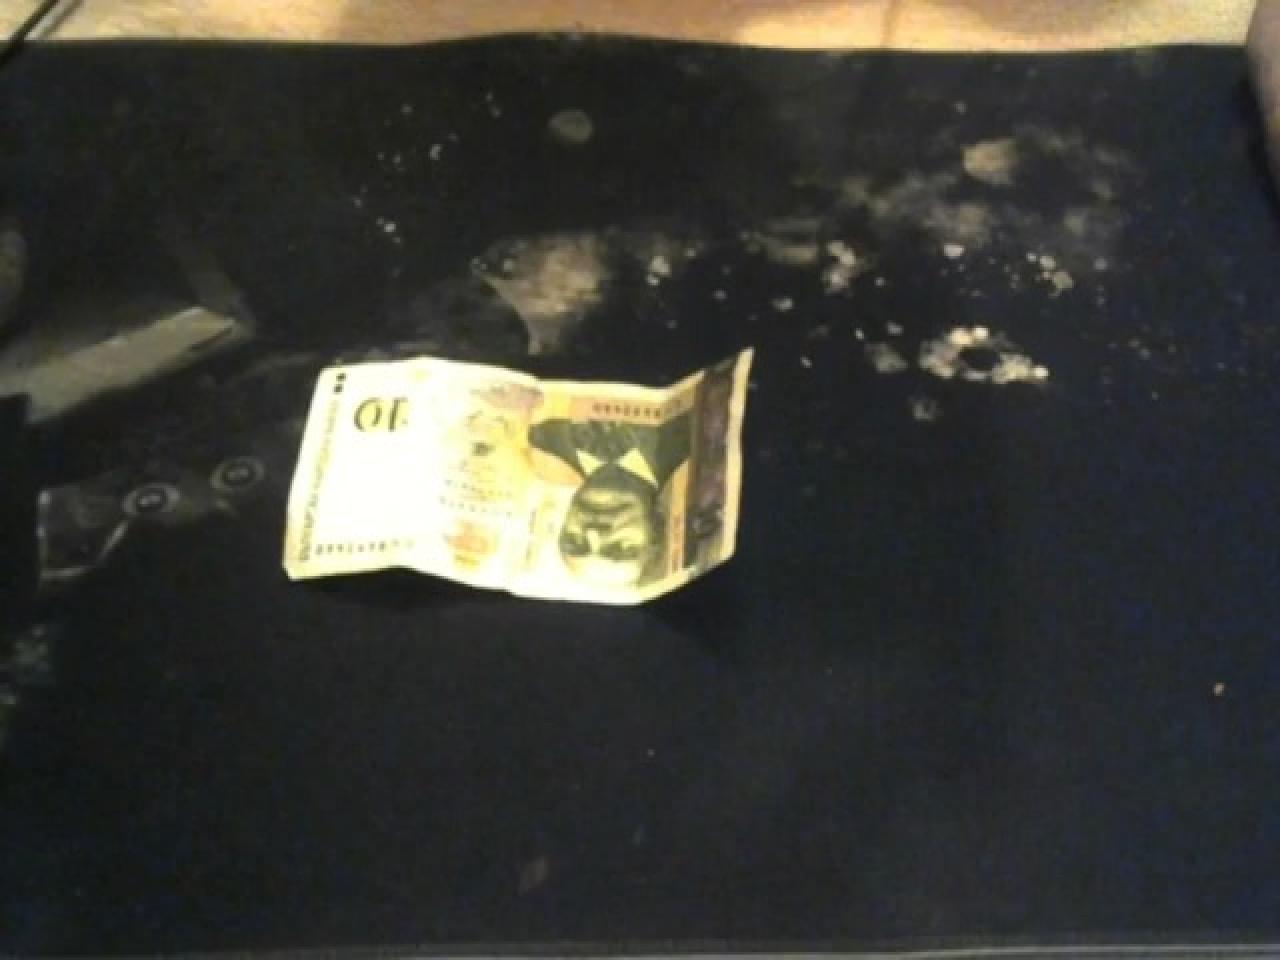10leva: (526, 392, 707, 588), (340, 386, 424, 457)
